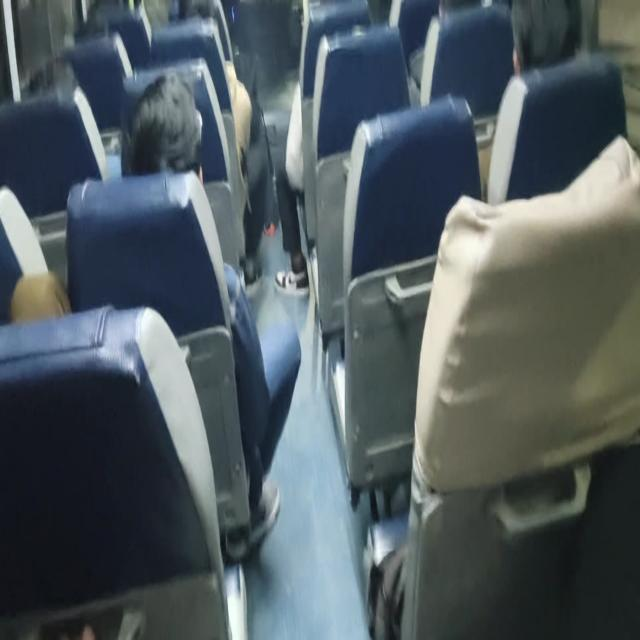person: (126, 70, 302, 556), (273, 0, 370, 297), (485, 0, 583, 202), (128, 71, 204, 179), (509, 0, 582, 75)
